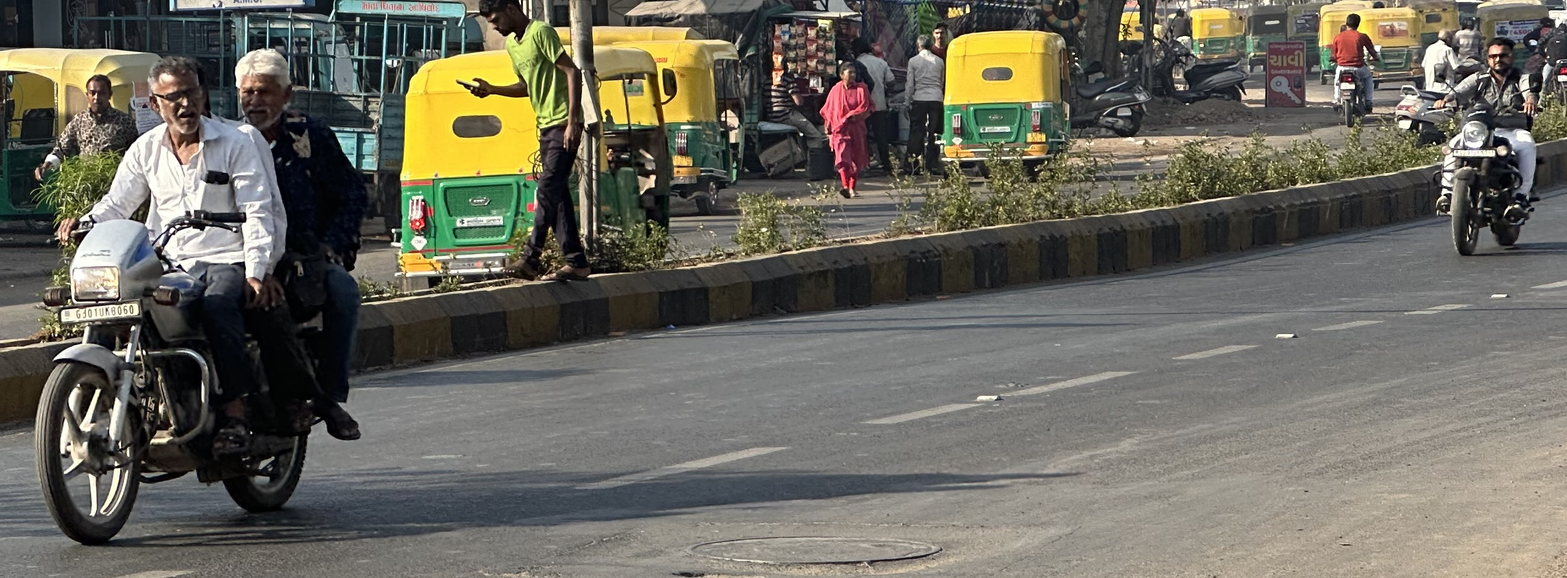BikeWithRider: (22, 39, 388, 554), (1429, 24, 1553, 261), (1394, 26, 1483, 139), (1318, 4, 1391, 132)
NoHelmet: (138, 50, 216, 142), (227, 43, 301, 135), (1478, 31, 1520, 80), (1340, 8, 1366, 36)
